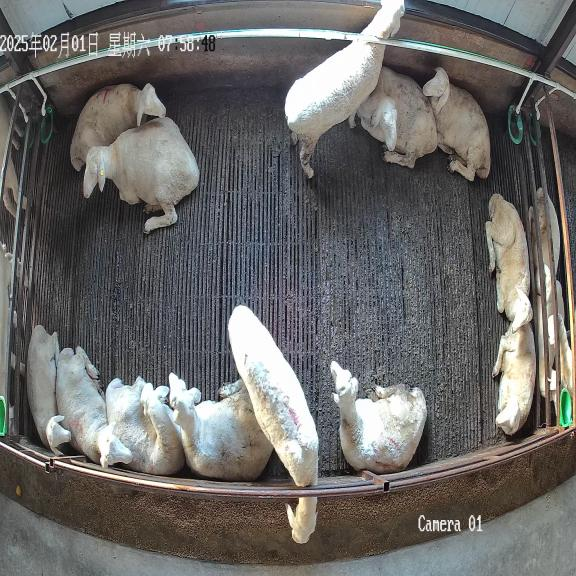eating: (228, 305, 321, 544)
lying: (83, 117, 199, 233), (169, 373, 273, 480), (331, 361, 427, 474), (56, 346, 133, 467), (356, 66, 437, 168), (70, 84, 166, 170), (105, 377, 185, 475), (422, 67, 490, 181), (486, 194, 533, 330), (27, 325, 71, 454), (493, 323, 536, 435)
stand: (285, 0, 405, 178)
